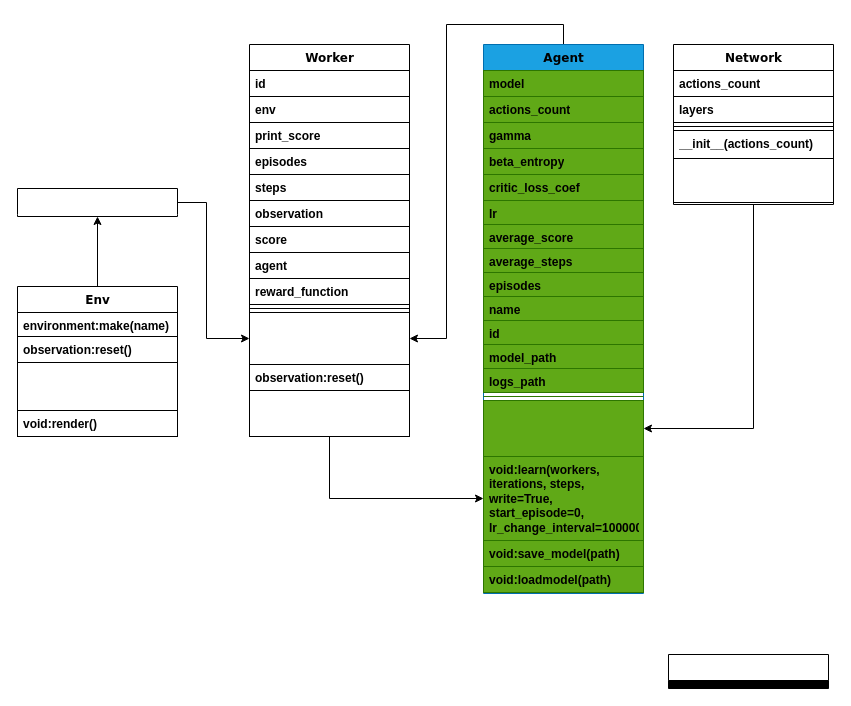
This 851x706 diagram has some shape labels left out. Each missing label, with the centre of its shape:
__init__(id, env, agent, print_score, reward_function): the point at 329,338
__init__(name, model, gamma, lr, beta_entropy, critic_loss_coef, id): the point at 563,428
observation, reward, done, info:step(action): the point at 97,386
observation, reward, terminate:step(action): the point at 329,413
out_actor, out_critic:forward(x): the point at 753,180
train(): the point at 748,671
Wrappers: the point at 97,202
